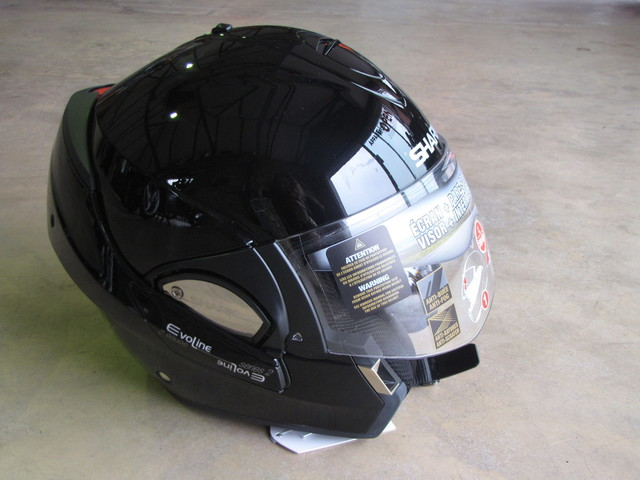helmet: (58, 44, 503, 435)
